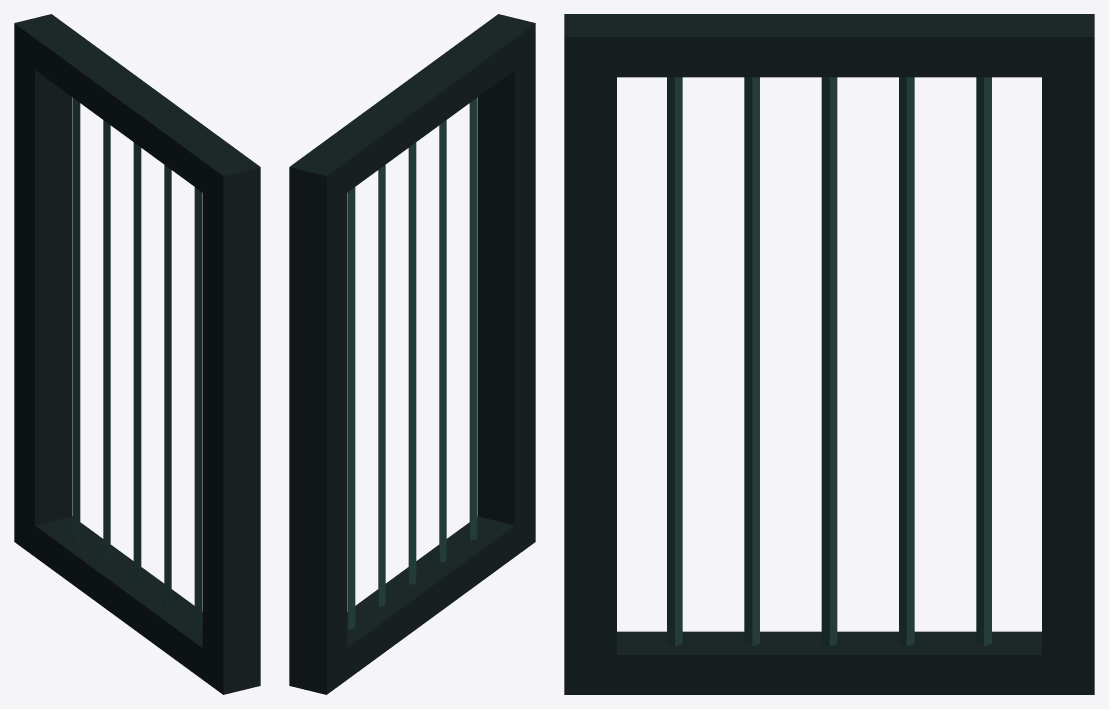
File: m_bars.glb
The picture shows the model from 3 angles, left to right: view 1: azimuth 30°, elevation 25°; view 2: azimuth 150°, elevation 25°; view 3: azimuth 270°, elevation 25°; orthographic projection. The views are drawn at different scales.
Visible parts, largest first — view 1: M_BarsBase, M_Bars; view 2: M_BarsBase, M_Bars; view 3: M_BarsBase, M_Bars.
Boxes of the visible parts, x1,y1,x2,y2 form: M_BarsBase: [14, 14, 260, 694]; M_Bars: [72, 98, 202, 629]; M_BarsBase: [289, 14, 535, 694]; M_Bars: [347, 98, 477, 629]; M_BarsBase: [564, 14, 1094, 694]; M_Bars: [667, 77, 991, 645].
Size of the model in its own units: 0.1413 by 1.87 by 1.37.
1 material, 1 textured.
